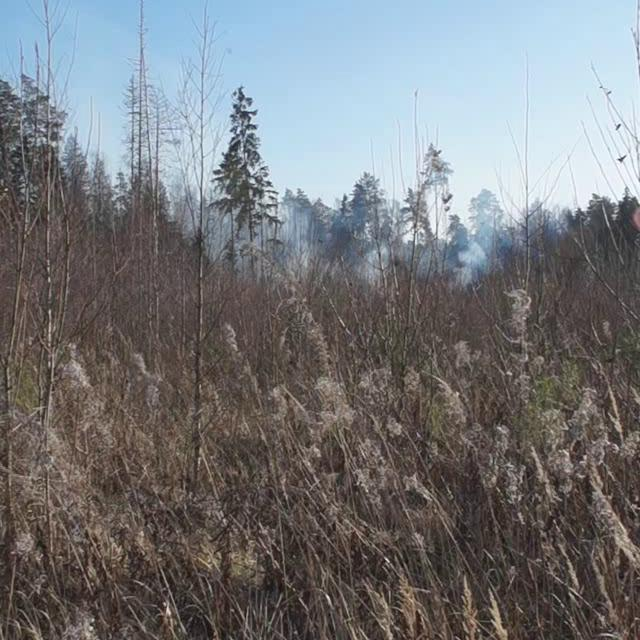Smoke: (155, 170, 531, 308)
